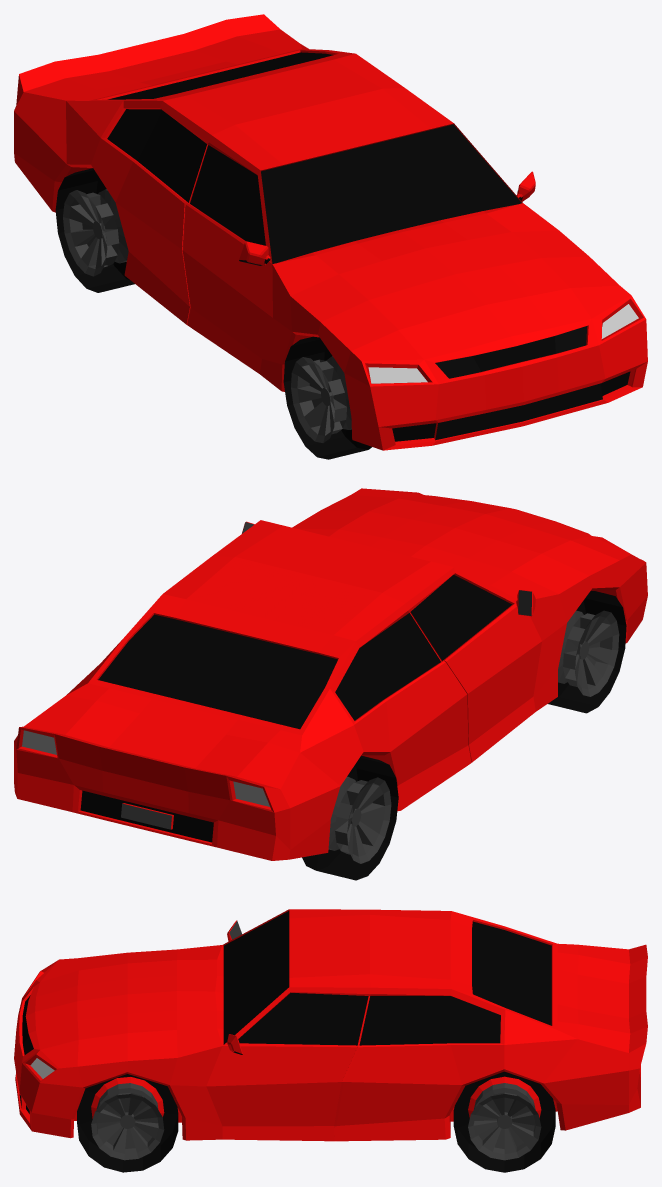
Rendered from car_1_red.obj.
3 views of the same model, one above another, from view 1: azimuth 30°, elevation 25°; view 2: azimuth 150°, elevation 25°; view 3: azimuth 270°, elevation 25° (orthographic). The views are drawn at different scales.
Visible parts, largest first — view 1: Cube; view 2: Cube; view 3: Cube.
Part boxes in pixels (<box>): Cube: <box>14,14,647,459</box>; Cube: <box>14,488,647,880</box>; Cube: <box>14,909,647,1172</box>.
Size of the model in its own units: 1.63 by 1.1 by 3.68.
